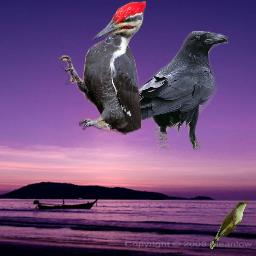Crow: (106, 31, 228, 150)
Cuckoo: (210, 201, 249, 249)
Woodpecker: (59, 1, 146, 135)
